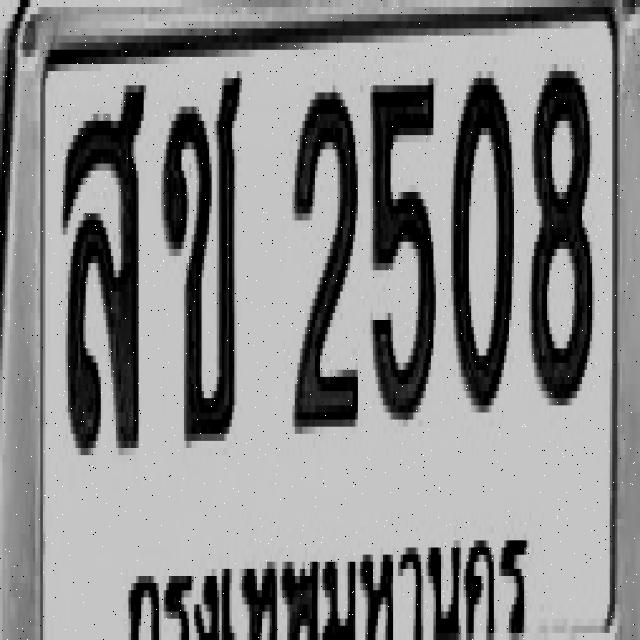0: (451, 67, 514, 409)
19ChorChang: (162, 64, 242, 441)
2: (290, 82, 358, 430)
49SorSuea: (60, 74, 146, 452)
5: (370, 72, 436, 420)
8: (529, 60, 592, 402)
